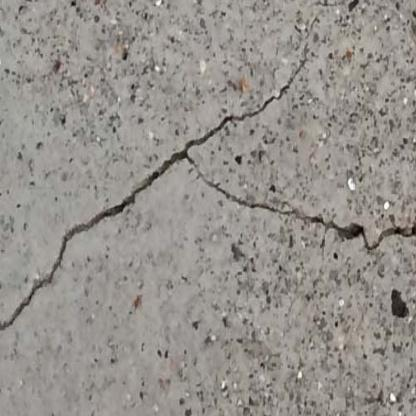Cracks: (0, 40, 416, 356)
